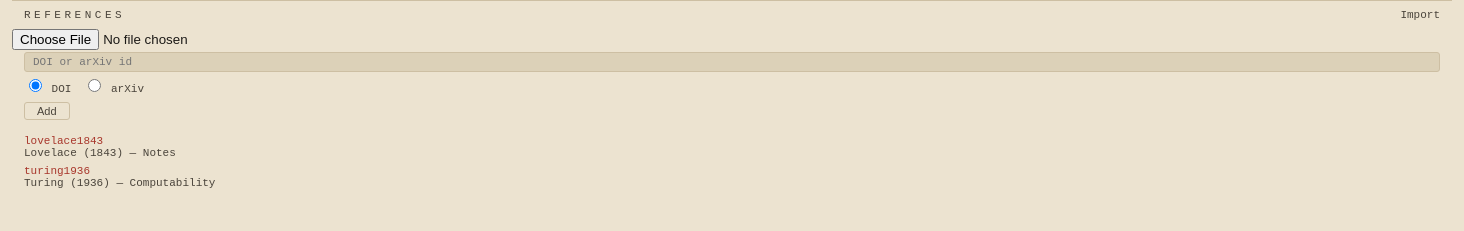
BibPanel › looks up a DOI on submit and reports the added key
Type "10.1/x" into the search field labelled "DOI or arXiv id" at (732, 62), box 24,52 -> 1440,72
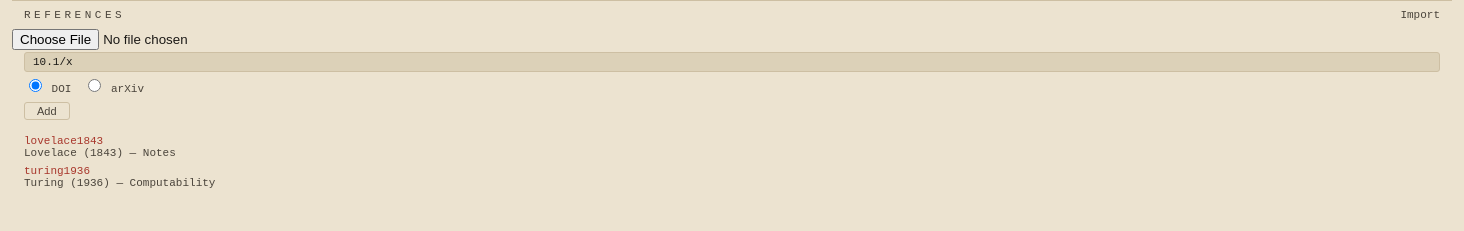
Submit the form with class "lookup", box 12,52 -> 1452,128
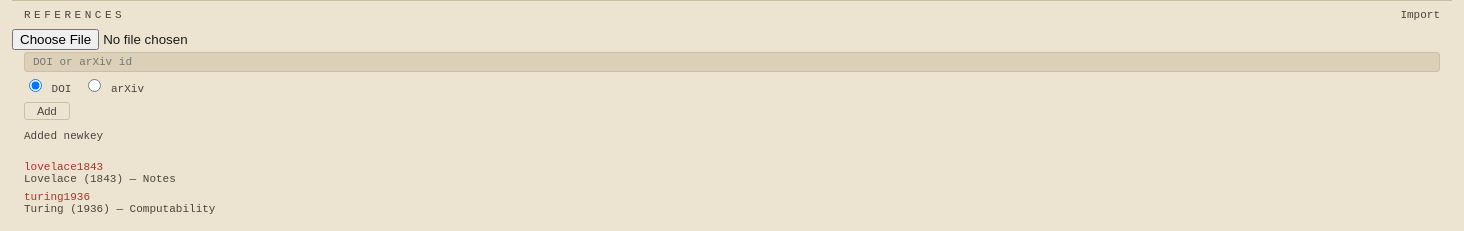
Expected: the message with class "status" reads "Added newkey", 24,130 -> 103,142
Expected: the search field labelled "DOI or arXiv id" is empty, 24,52 -> 1440,72
